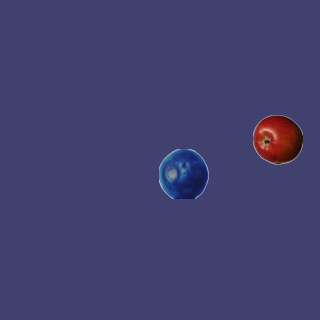Apple Braeburn: (252, 114, 302, 164)
Huckleberry: (158, 148, 208, 198)
